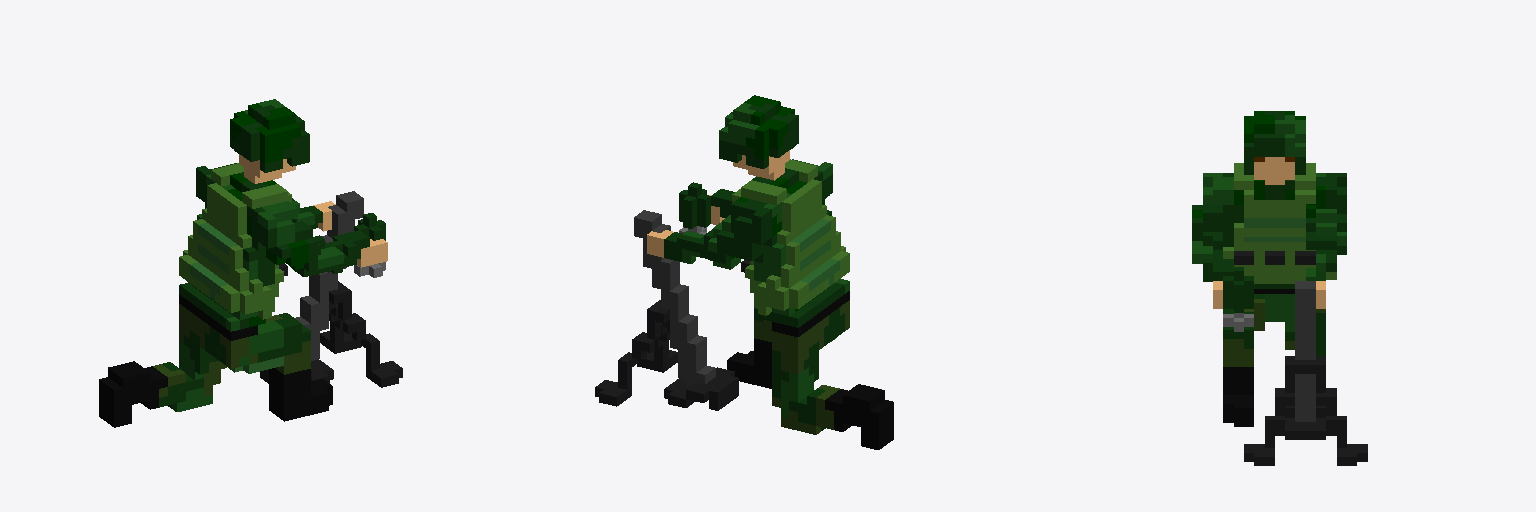
The picture shows the model from 3 angles: view 1: azimuth 30°, elevation 25°; view 2: azimuth 150°, elevation 25°; view 3: azimuth 270°, elevation 25°; orthographic projection.
Parts seen in each view (by area): view 1: object 1; view 2: object 1; view 3: object 1.
Part boxes in pixels (x1,y1,x2,y2): object 1: (99, 99, 402, 427); object 1: (595, 95, 893, 449); object 1: (1192, 111, 1367, 465).
Bounding box in the file's own units: 3 × 3.1 × 1.7.
1 materials, 1 textured.